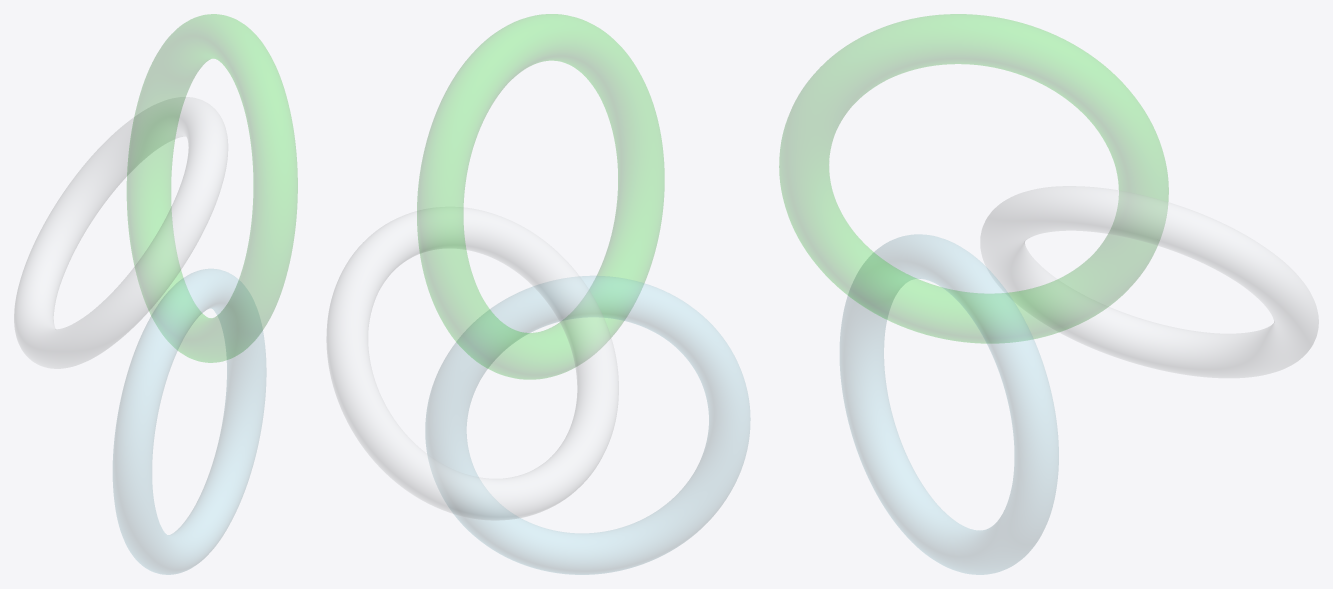
Rendered from pokal.glb.
3 views of the same model, side by side, from view 1: azimuth 30°, elevation 25°; view 2: azimuth 150°, elevation 25°; view 3: azimuth 270°, elevation 25° (orthographic). The views are drawn at different scales.
Bounding box in the file's own units: 0.1496 × 0.3158 × 0.2672.
